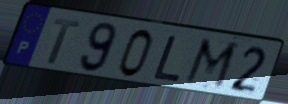0: (117, 28, 156, 78)
2: (229, 46, 268, 97)
9: (78, 21, 119, 75)
L: (150, 34, 183, 84)
M: (180, 35, 242, 93)
T: (46, 18, 83, 67)
